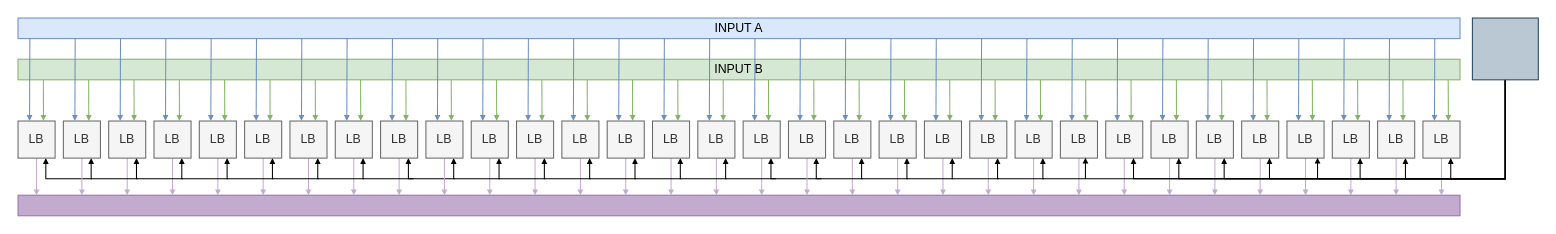
Some shapes in this 1556 by 234 pixel diagram are drawn without their labels. Here are the shapes that lost their labels. From the top down, the box of each, then its label:
(1471, 17, 1538, 80): OPCODE 1:0
(17, 194, 1460, 216): OUTPUT
